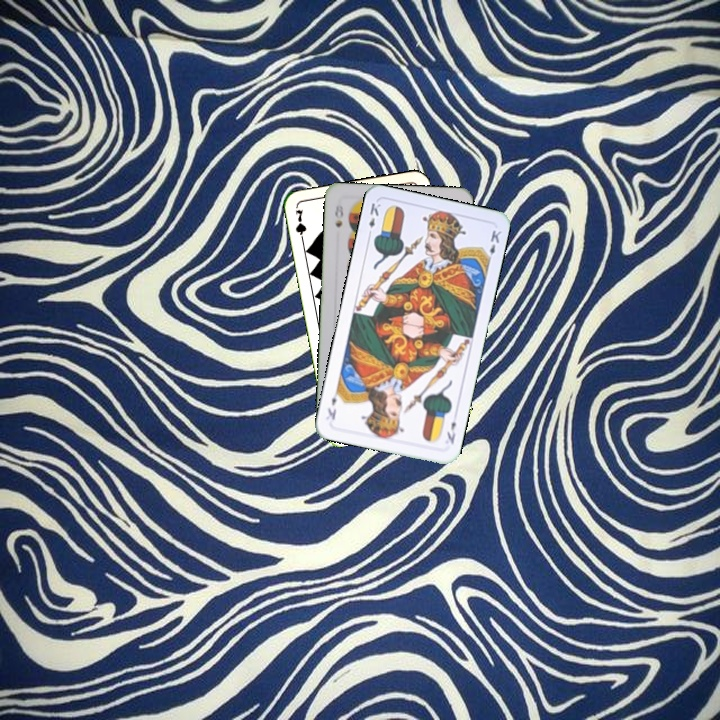EK: (364, 199, 383, 239), (443, 417, 459, 446)
G7: (291, 205, 309, 246)
S8: (330, 201, 346, 230)
